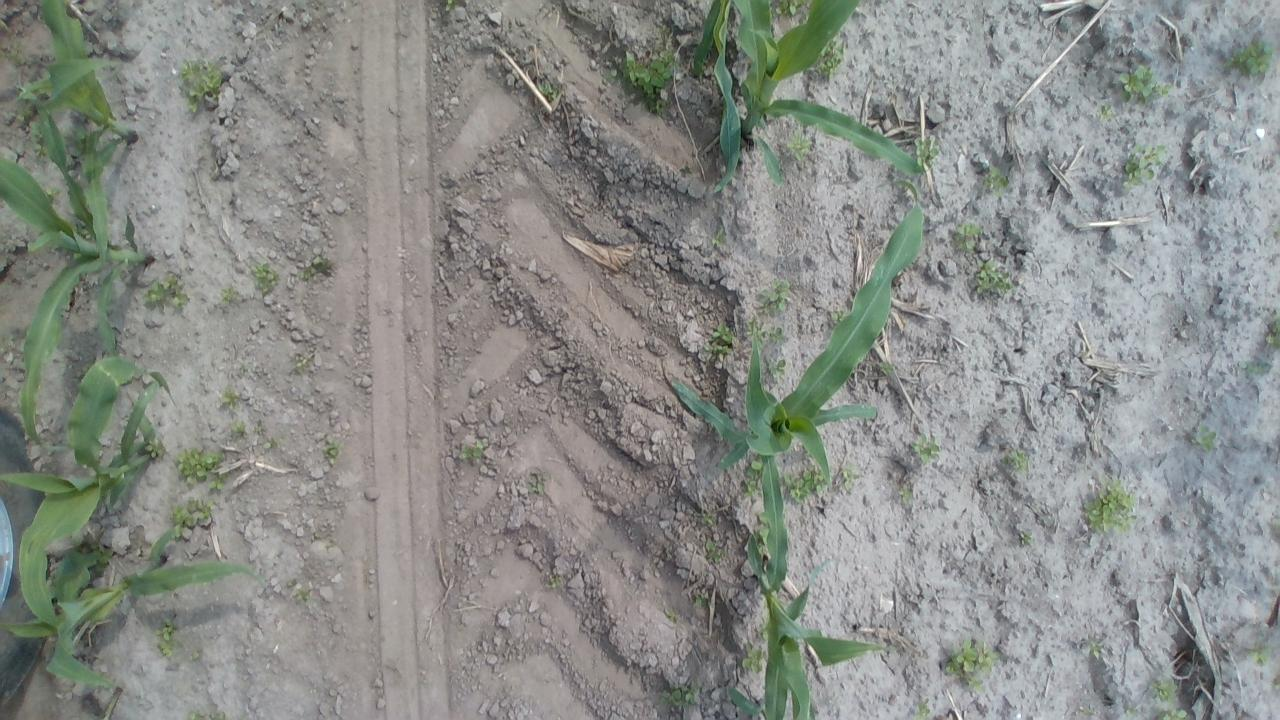Maize: (672, 180, 925, 490), (0, 85, 157, 452), (0, 353, 180, 632), (1, 523, 270, 687), (744, 426, 890, 720), (730, 1, 926, 190), (16, 0, 140, 142), (690, 0, 744, 194)
Weeds: (622, 40, 678, 114), (1084, 480, 1138, 538), (177, 57, 230, 116), (941, 636, 1001, 686), (64, 538, 113, 590), (1115, 66, 1174, 106), (176, 446, 226, 492), (1222, 40, 1274, 80), (1118, 142, 1166, 185), (142, 272, 190, 311), (971, 258, 1013, 296), (172, 498, 216, 530), (660, 680, 704, 712), (756, 278, 792, 316), (786, 467, 824, 503), (744, 318, 784, 350), (814, 38, 844, 79), (704, 323, 737, 359), (951, 219, 984, 253), (912, 136, 942, 170), (300, 255, 334, 284), (155, 618, 178, 660), (741, 458, 764, 500), (910, 434, 940, 466), (981, 165, 1011, 197), (250, 260, 278, 294), (786, 128, 812, 164), (1148, 673, 1179, 703), (758, 322, 790, 350), (740, 640, 766, 674), (1192, 420, 1218, 453), (1002, 448, 1030, 477), (456, 438, 487, 464), (772, 0, 807, 20), (526, 472, 550, 499), (71, 127, 95, 152), (702, 540, 725, 566), (838, 464, 860, 491), (321, 437, 342, 465), (220, 386, 243, 411), (1248, 641, 1270, 667), (1238, 360, 1272, 376), (185, 707, 228, 719), (1086, 635, 1108, 658), (910, 700, 938, 718), (538, 80, 559, 102), (146, 436, 166, 459), (29, 127, 45, 155), (1096, 100, 1116, 122), (766, 357, 788, 377), (291, 353, 312, 373), (600, 64, 619, 86), (219, 284, 239, 304), (696, 509, 716, 529), (897, 483, 916, 504), (1158, 707, 1190, 719), (293, 585, 313, 604), (876, 359, 896, 378), (693, 591, 711, 612), (544, 573, 564, 591), (663, 606, 683, 624), (831, 306, 848, 327), (711, 229, 728, 248), (1264, 322, 1276, 348), (1018, 530, 1034, 548), (232, 421, 248, 437), (46, 187, 60, 204), (1123, 704, 1140, 718), (440, 0, 459, 12), (252, 420, 266, 436), (189, 646, 203, 662)
